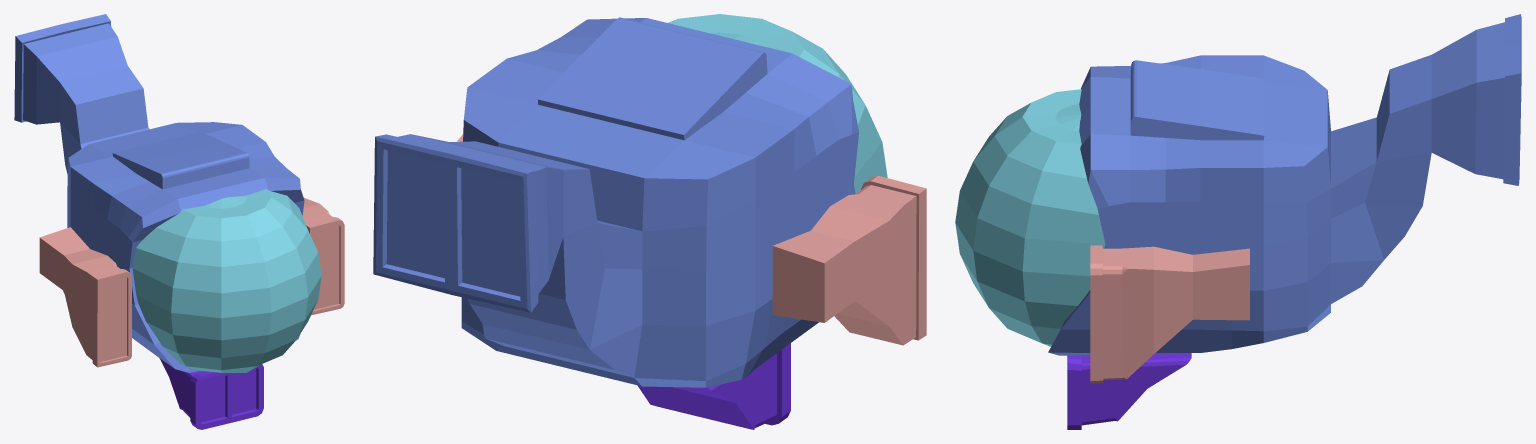
The model's file is Ship_B_v02.fbx.
3 renders of one model, left to right at view 1: azimuth 30°, elevation 25°; view 2: azimuth 150°, elevation 25°; view 3: azimuth 270°, elevation 25°, orthographic. The views are drawn at different scales.
Visible parts, largest first — view 1: Main Ship, Visor, Firearms.001, Launchers, Firearms; view 2: Main Ship, Firearms.001, Launchers, Visor; view 3: Main Ship, Visor, Firearms, Launchers.
Boxes of the visible parts, x1,y1,x2,y2 form: Main Ship: (14, 14, 304, 372); Visor: (132, 189, 321, 372); Firearms.001: (39, 227, 131, 367); Launchers: (159, 358, 263, 429); Firearms: (302, 198, 344, 315); Main Ship: (373, 17, 858, 387); Firearms.001: (772, 175, 926, 345); Launchers: (637, 343, 790, 429); Visor: (668, 14, 887, 193); Main Ship: (1048, 14, 1521, 355); Visor: (955, 89, 1105, 346); Firearms: (1090, 245, 1249, 383); Launchers: (1067, 353, 1191, 429).
Bounding box in the file's own units: 801 × 848 × 1180.
